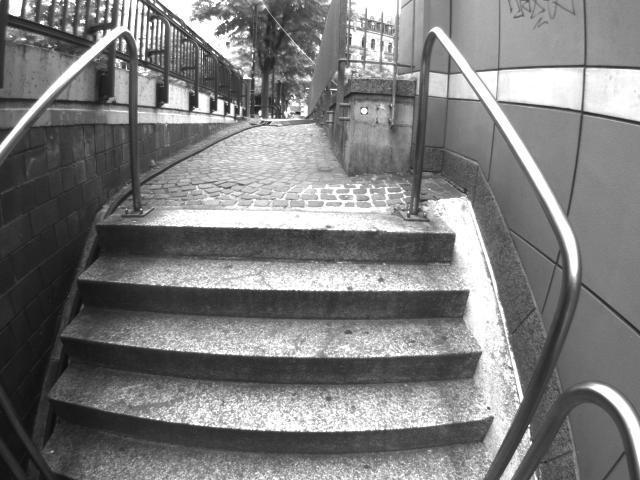Escaleras: (86, 211, 477, 479)
